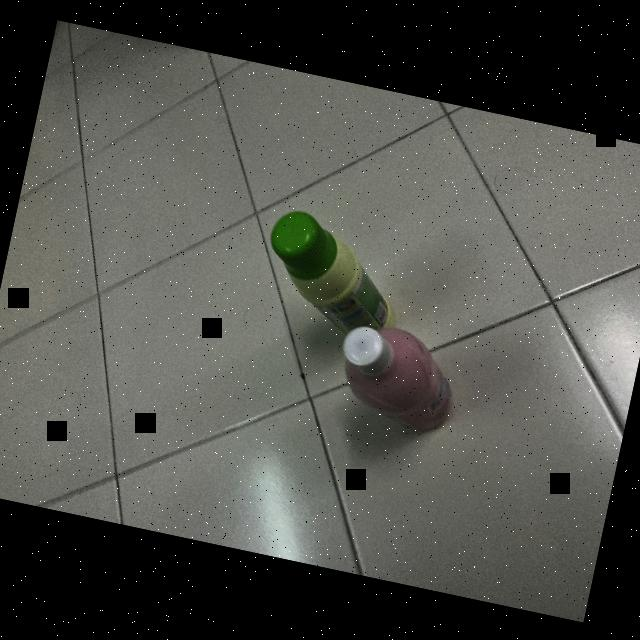chemical_plastic_bottle: (251, 200, 405, 348), (326, 314, 464, 438)
